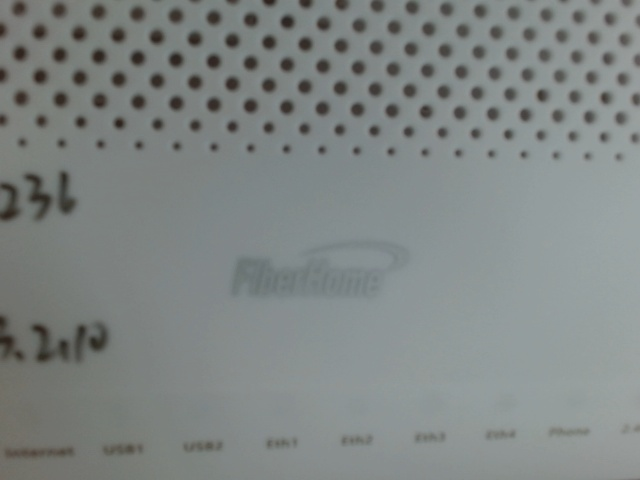AI_FiberHome: (210, 226, 417, 307)
